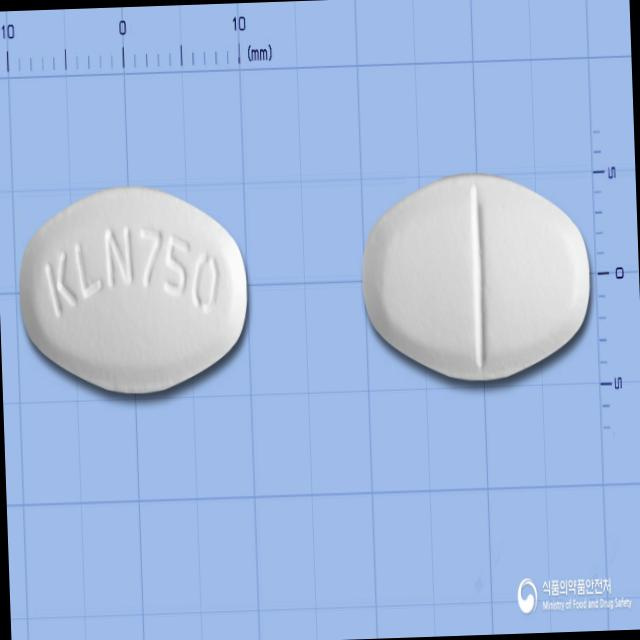Levo Plus: (16, 182, 252, 400)
